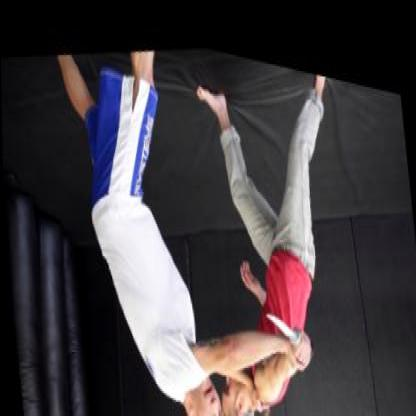knife: (260, 282, 315, 356)
